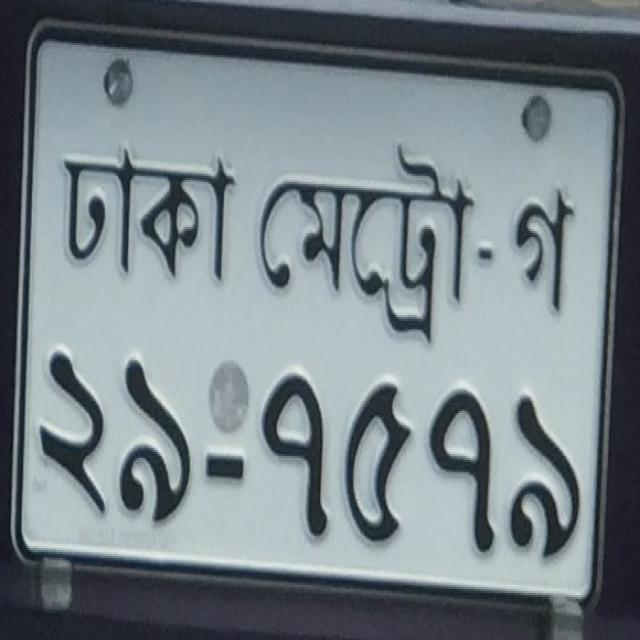numberplate: (6, 13, 630, 619)
